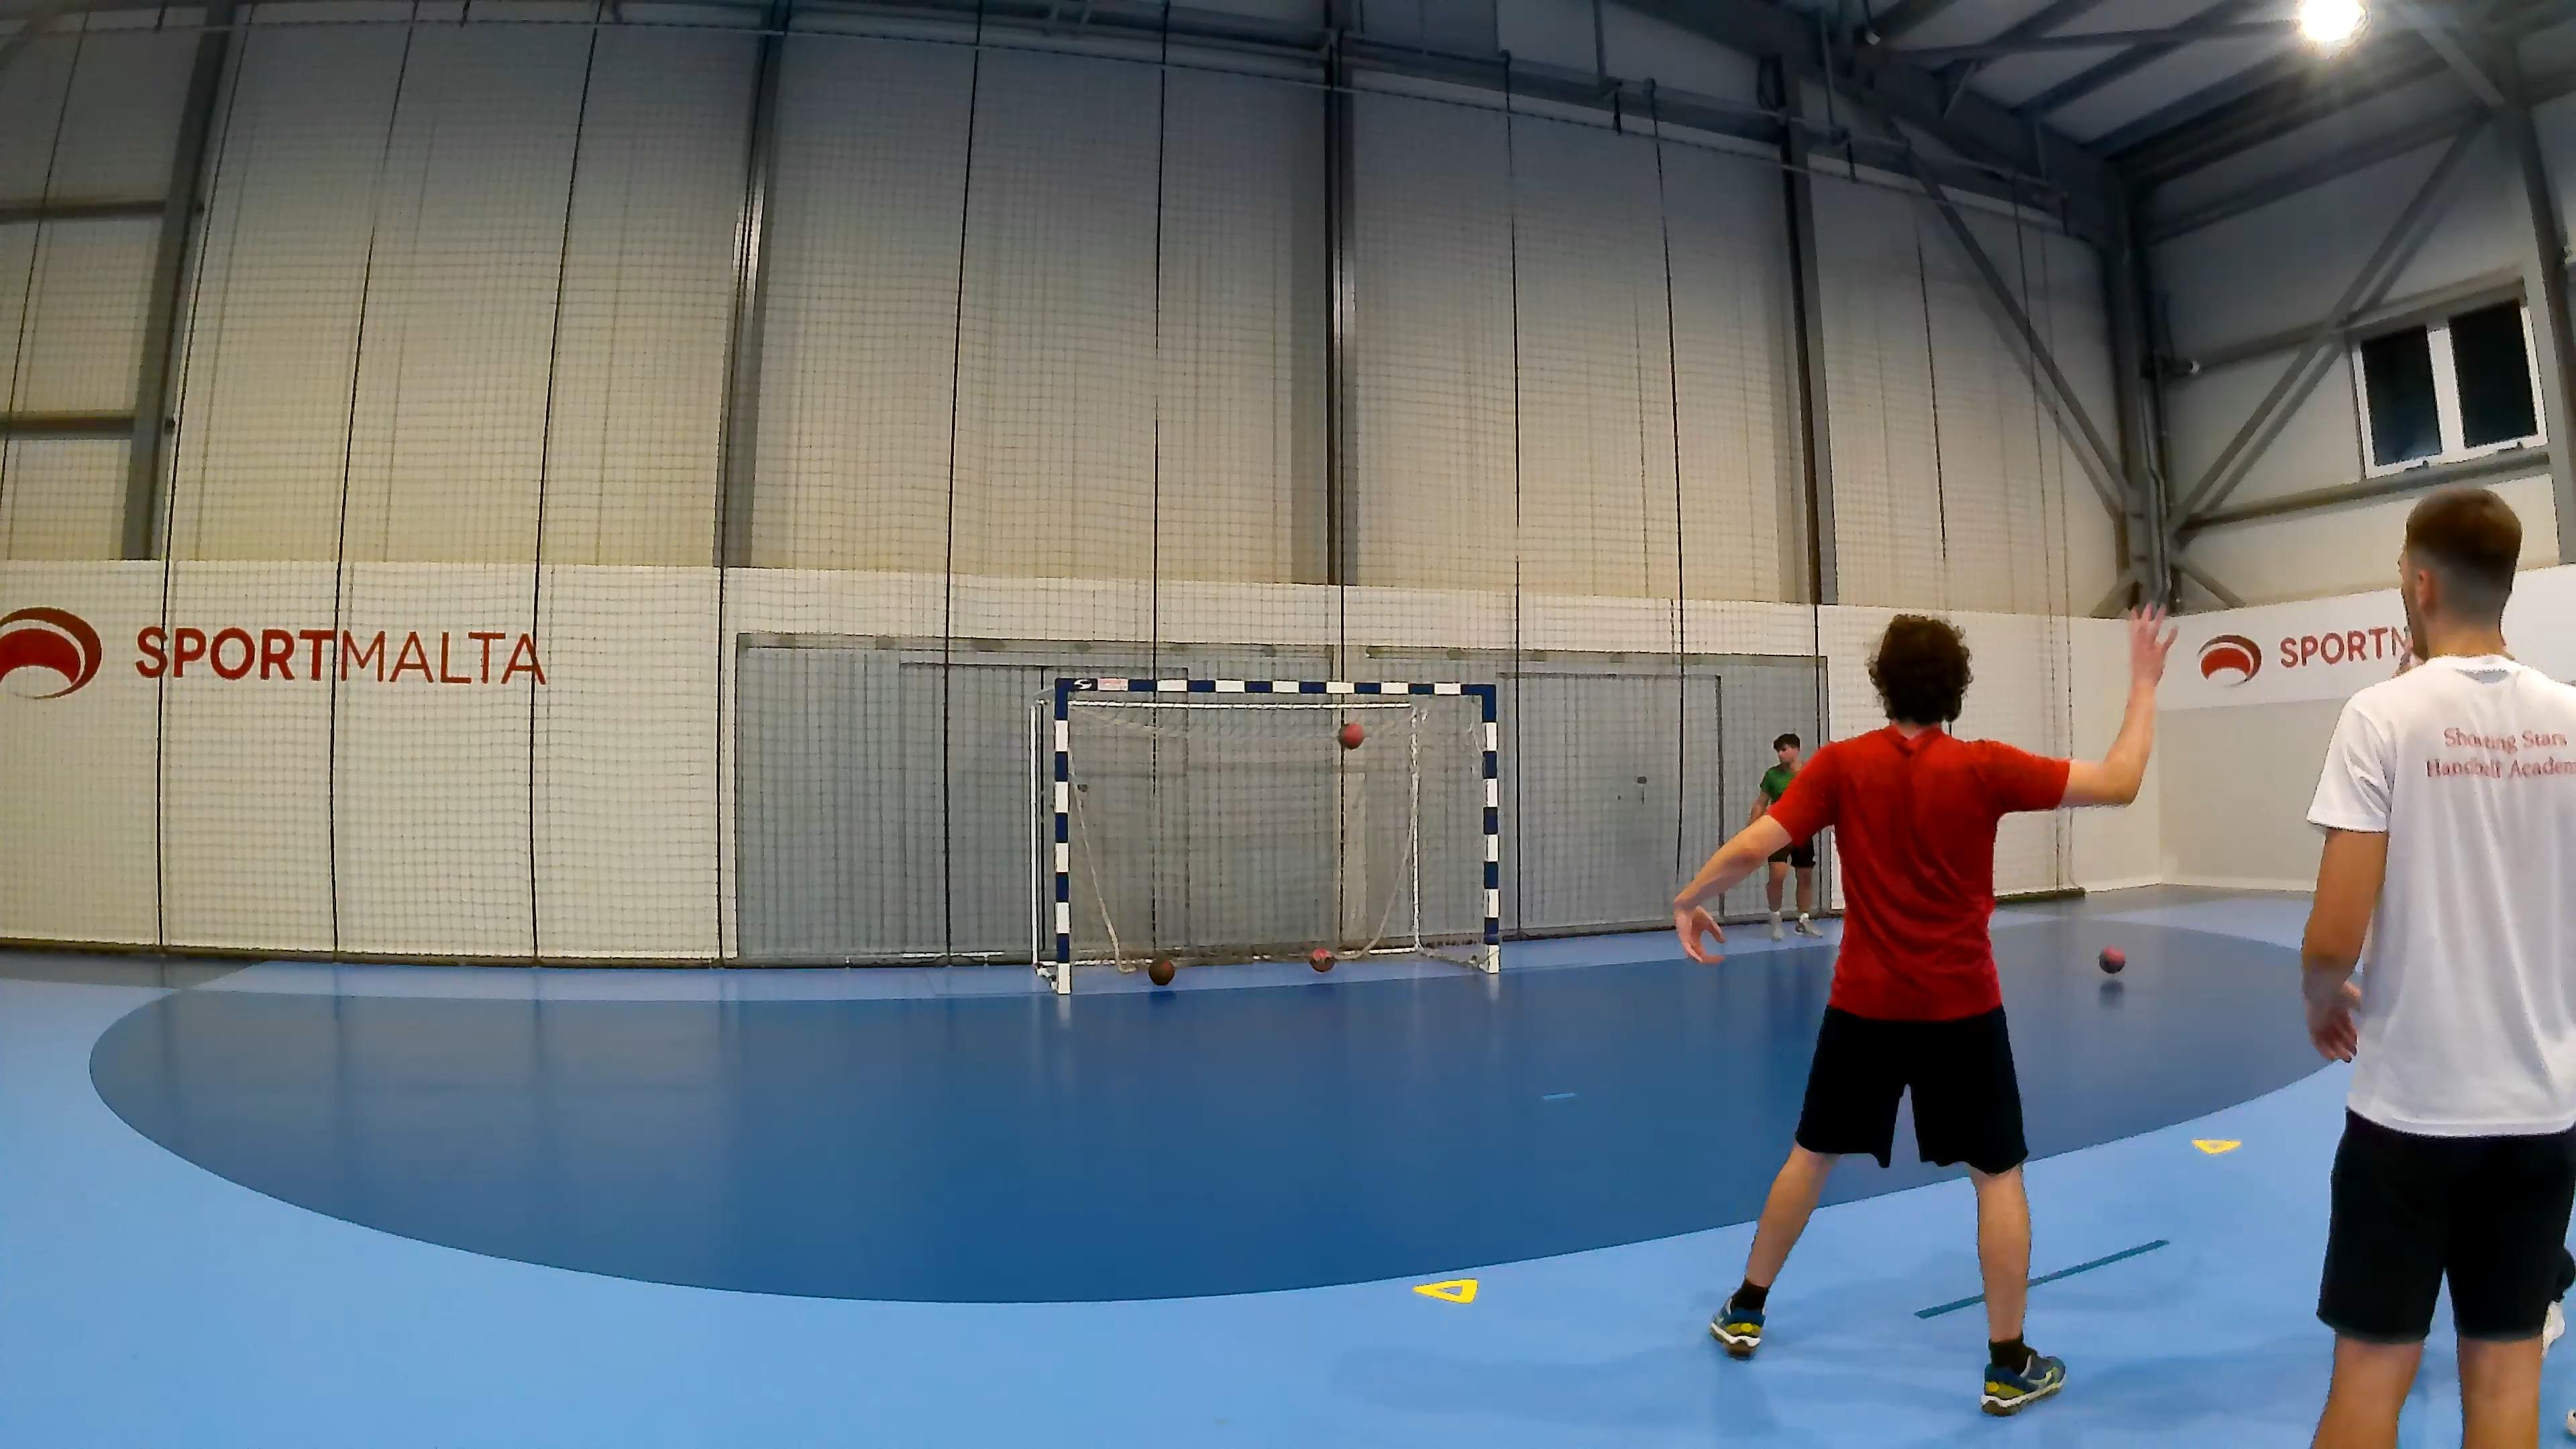handball: (1311, 939, 1346, 980), (1339, 720, 1366, 761), (1146, 955, 1175, 985), (2098, 945, 2127, 973)
